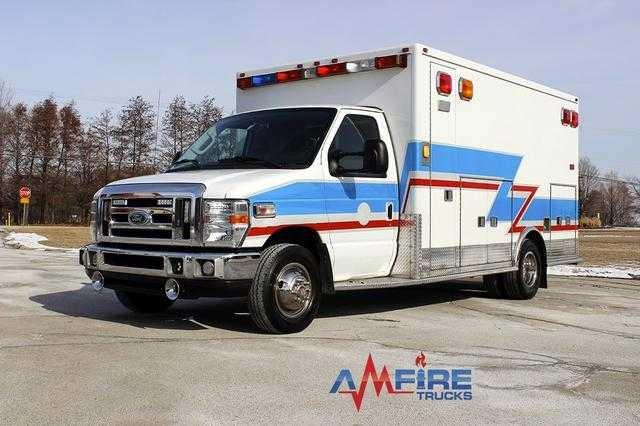car: (78, 41, 581, 334)
